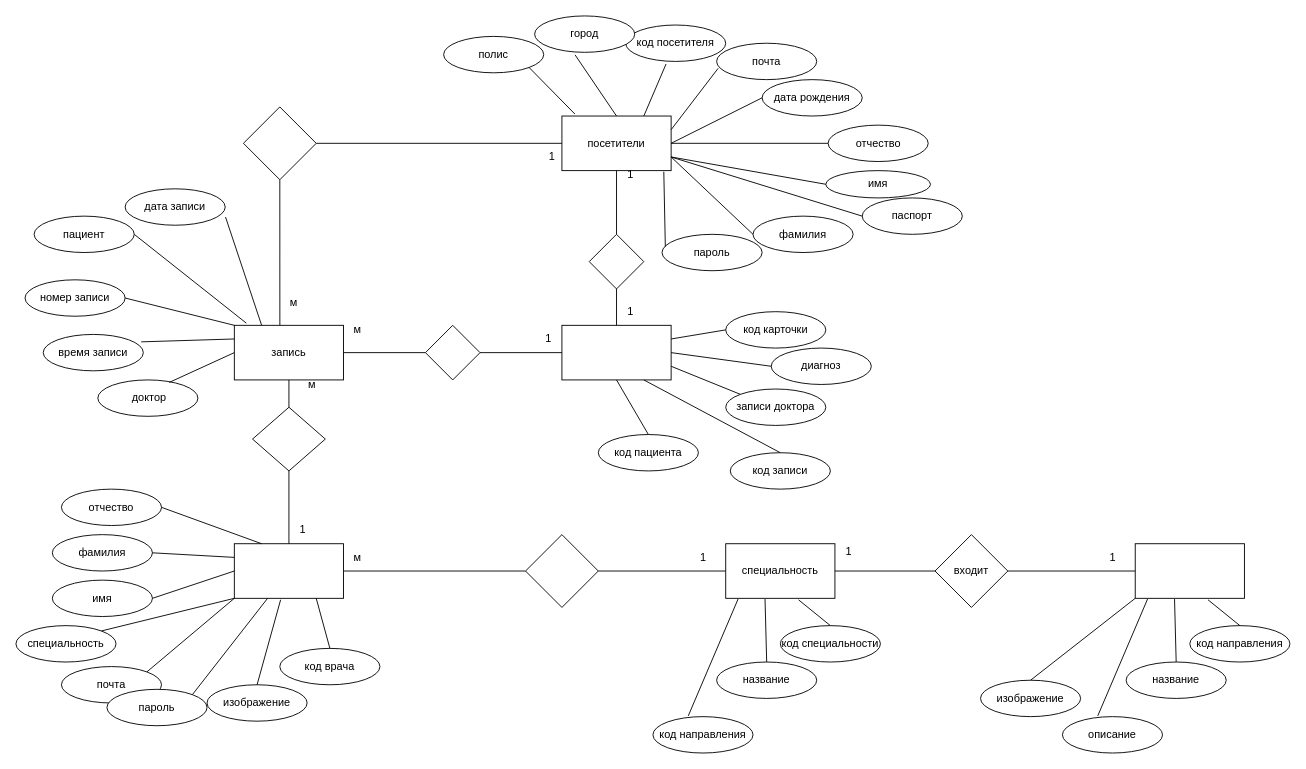
Some shapes in this 1306 by 769 pixel diagram are drawn without their labels. Each missing label, with the box of its shape:
вносится: (425, 324, 480, 380)
врач: (233, 543, 344, 598)
выбирает: (243, 106, 316, 180)
есть: (525, 534, 598, 607)
заводят: (588, 233, 644, 289)
карточка: (561, 324, 671, 380)
назначается: (252, 406, 325, 471)
направление: (1134, 543, 1244, 598)
